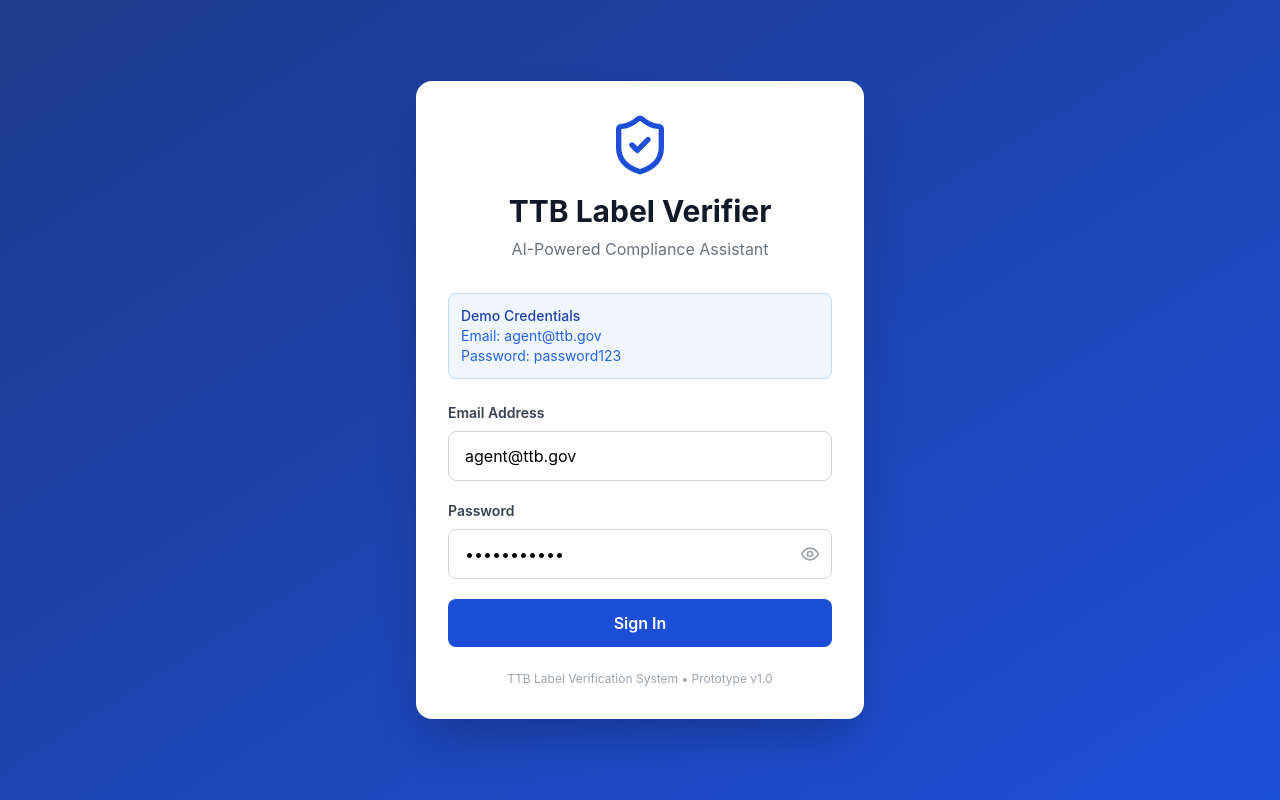
it: LoginPage › shows error alert on login failure
This screenshot has width=1280, height=800.
Click the button "Sign In" at coordinates (640, 623), box [448,599,832,647]
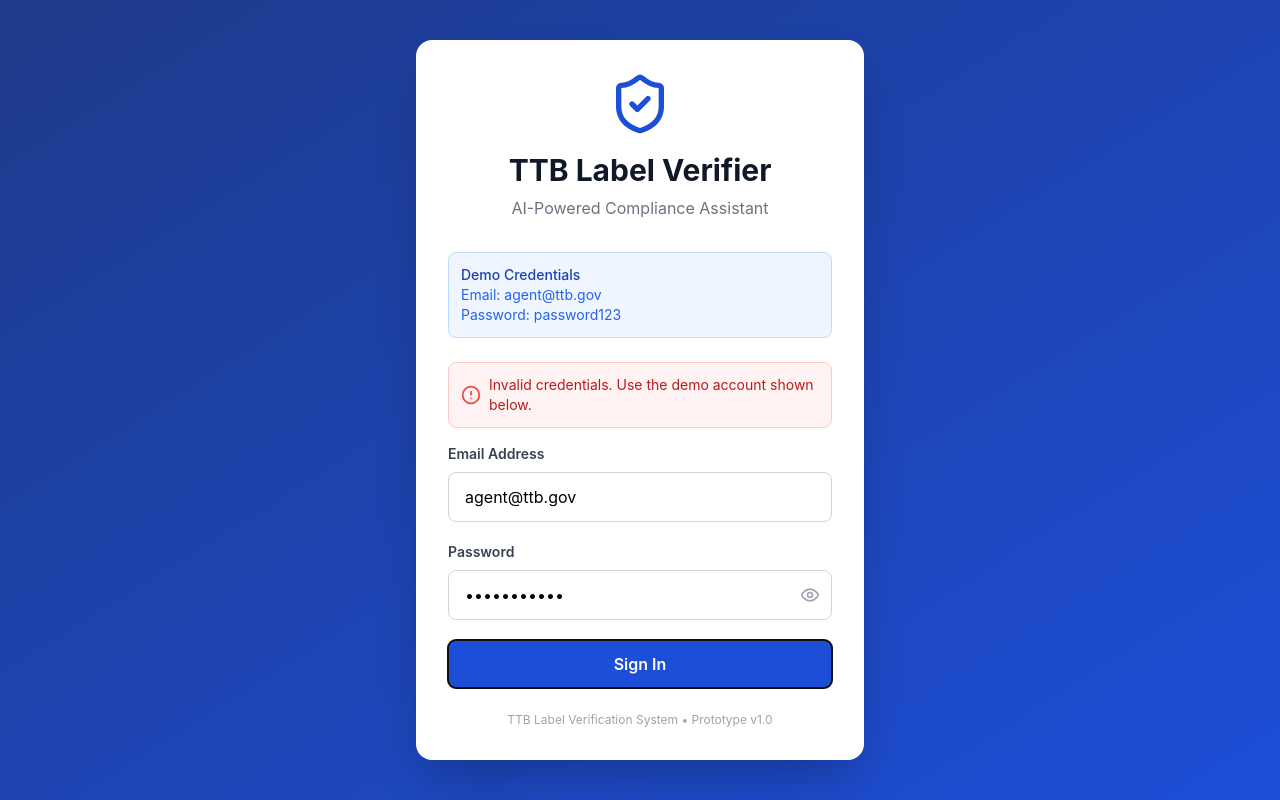
Result: the message "Invalid credentials. Use the demo account shown below." is shown at [448,362,832,428]
